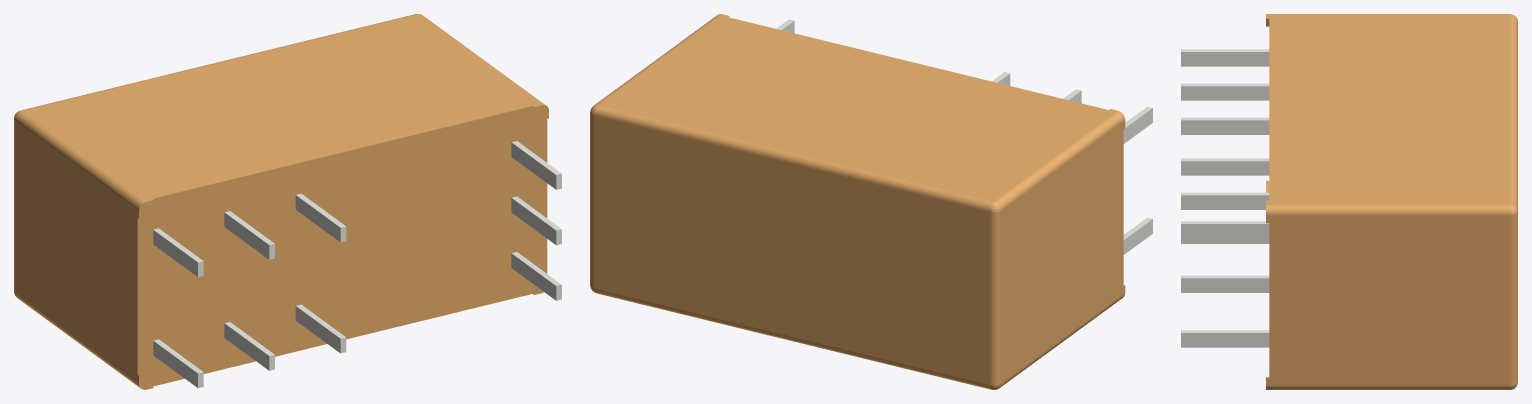
The model's file is Relay_DPDT_Schrack-RT2-FormC-Dual-Coil_RM5mm.glb.
The picture shows the model from 3 angles, left to right: view 1: azimuth 30°, elevation 25°; view 2: azimuth 150°, elevation 25°; view 3: azimuth 270°, elevation 25°; orthographic projection.
Parts seen in each view (by area): view 1: Shape_IndexedFaceSet.005, Shape_IndexedFaceSet.011, Shape_IndexedFaceSet.012, Shape_IndexedFaceSet.055, Shape_IndexedFaceSet.020, Shape_IndexedFaceSet.024, Shape_IndexedFaceSet.028, Shape_IndexedFaceSet.032, Shape_IndexedFaceSet.036, Shape_IndexedFaceSet.044, Shape_IndexedFaceSet.003, Shape_IndexedFaceSet.016 (+3 smaller); view 2: Shape_IndexedFaceSet.067, Shape_IndexedFaceSet.011, Shape_IndexedFaceSet.012, Shape_IndexedFaceSet.056, Shape_IndexedFaceSet.057, Shape_IndexedFaceSet.051, Shape_IndexedFaceSet.055, Shape_IndexedFaceSet.049, Shape_IndexedFaceSet.052; view 3: Shape_IndexedFaceSet.011, Shape_IndexedFaceSet.007, Shape_IndexedFaceSet.048, Shape_IndexedFaceSet.056, Shape_IndexedFaceSet.049, Shape_IndexedFaceSet.001, Shape_IndexedFaceSet.014, Shape_IndexedFaceSet.026, Shape_IndexedFaceSet.034, Shape_IndexedFaceSet.038, Shape_IndexedFaceSet.042, Shape_IndexedFaceSet.030 (+8 smaller).
Boxes of the visible parts, x1,y1,x2,y2 form: Shape_IndexedFaceSet.005: (137, 106, 547, 386); Shape_IndexedFaceSet.011: (22, 14, 541, 201); Shape_IndexedFaceSet.012: (15, 120, 138, 383); Shape_IndexedFaceSet.055: (15, 111, 145, 210); Shape_IndexedFaceSet.020: (295, 306, 340, 353); Shape_IndexedFaceSet.024: (224, 323, 269, 370); Shape_IndexedFaceSet.028: (511, 253, 556, 300); Shape_IndexedFaceSet.032: (511, 142, 556, 189); Shape_IndexedFaceSet.036: (295, 195, 340, 242); Shape_IndexedFaceSet.044: (224, 212, 269, 259); Shape_IndexedFaceSet.003: (511, 198, 556, 244); Shape_IndexedFaceSet.016: (153, 341, 197, 387); Shape_IndexedFaceSet.067: (594, 115, 989, 384); Shape_IndexedFaceSet.011: (599, 14, 1117, 201); Shape_IndexedFaceSet.012: (1001, 120, 1125, 383); Shape_IndexedFaceSet.056: (594, 105, 993, 211); Shape_IndexedFaceSet.057: (990, 211, 1001, 385); Shape_IndexedFaceSet.051: (594, 288, 991, 389); Shape_IndexedFaceSet.055: (994, 111, 1125, 210); Shape_IndexedFaceSet.049: (590, 112, 594, 288); Shape_IndexedFaceSet.052: (1000, 293, 1125, 387); Shape_IndexedFaceSet.011: (1266, 14, 1509, 204); Shape_IndexedFaceSet.007: (1266, 215, 1509, 385); Shape_IndexedFaceSet.048: (1266, 204, 1509, 215); Shape_IndexedFaceSet.056: (1510, 14, 1517, 210); Shape_IndexedFaceSet.049: (1510, 212, 1517, 385); Shape_IndexedFaceSet.001: (1181, 278, 1269, 292); Shape_IndexedFaceSet.014: (1181, 161, 1269, 175); Shape_IndexedFaceSet.026: (1181, 333, 1269, 347); Shape_IndexedFaceSet.034: (1181, 120, 1269, 134); Shape_IndexedFaceSet.038: (1181, 52, 1269, 66); Shape_IndexedFaceSet.042: (1181, 86, 1269, 100); Shape_IndexedFaceSet.030: (1181, 224, 1269, 238).
Size of the model in its own units: 11.42 by 5 by 8.27.
